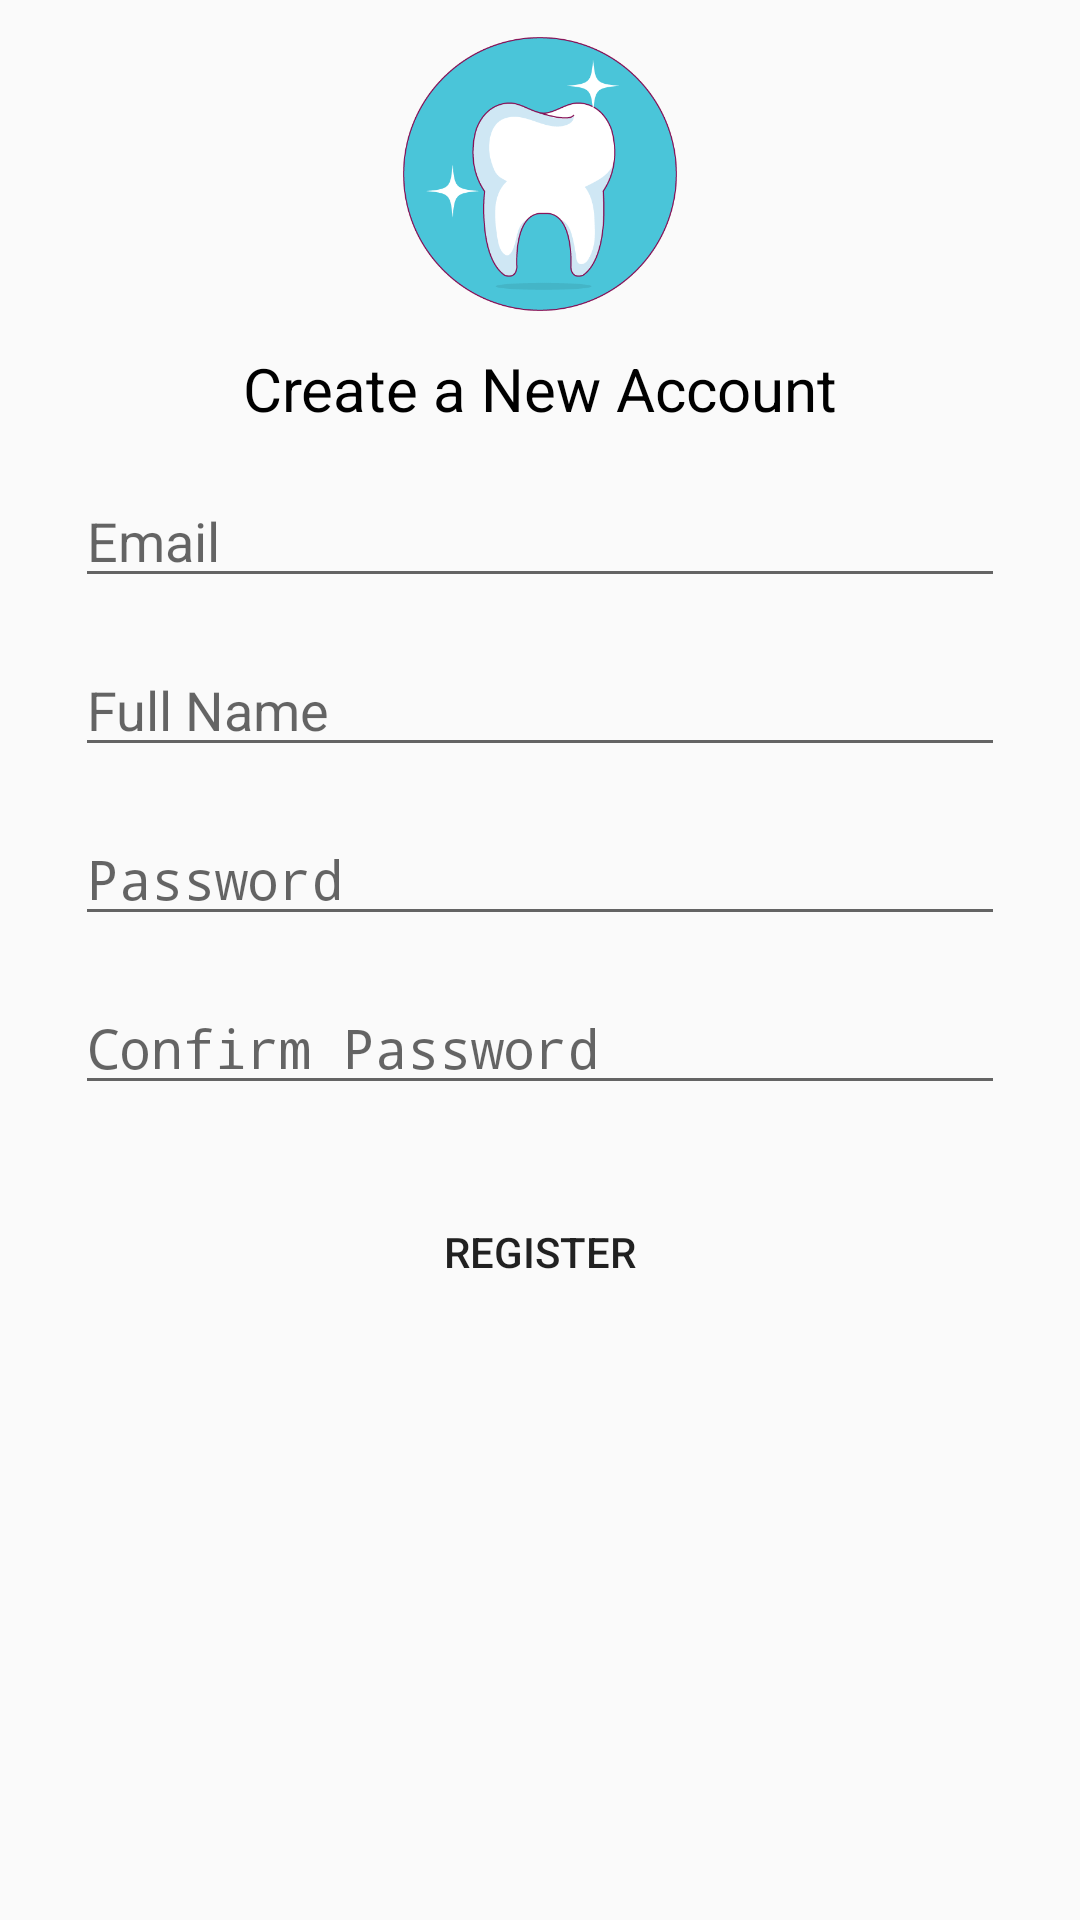

Point at icon controls on the screen. Image size 1080px×1920px, points as (x=x, y=y).
dentist app: (x=540, y=174)
